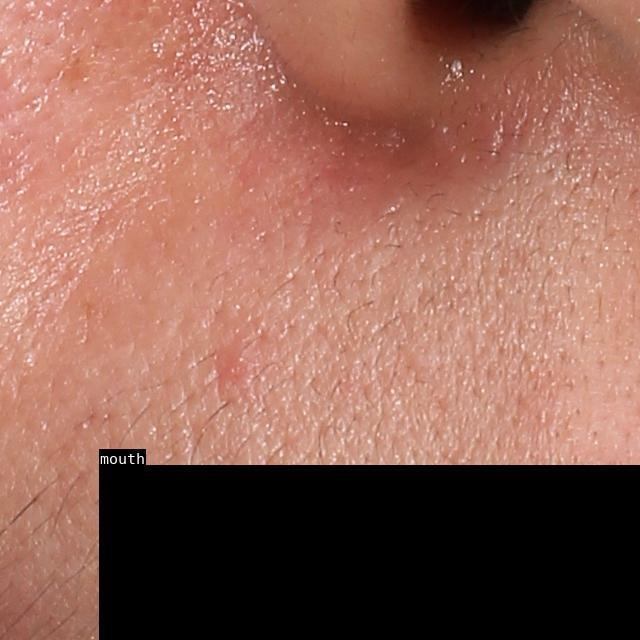papule: (212, 351, 254, 384)
